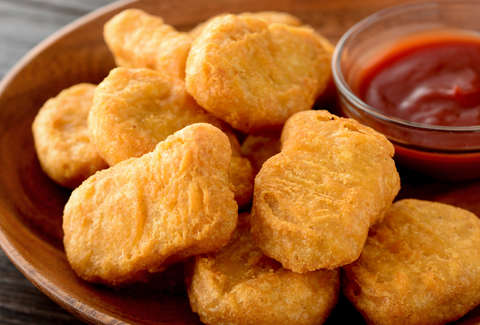chicken_nuggets: (60, 139, 232, 258), (103, 66, 243, 186), (275, 130, 392, 263), (361, 199, 476, 316), (202, 17, 328, 122), (204, 229, 330, 325), (105, 11, 203, 81), (42, 84, 104, 174), (244, 129, 279, 171)
